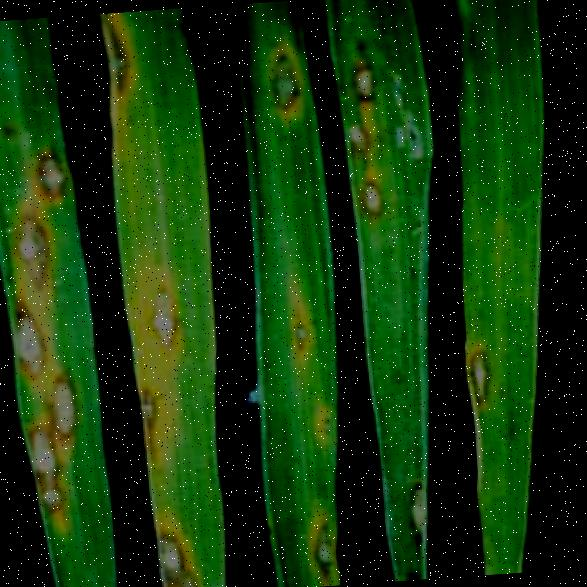Leaf_smut: (129, 258, 217, 360), (268, 493, 362, 585), (10, 411, 76, 522), (388, 431, 440, 565), (260, 266, 322, 378), (0, 201, 75, 292), (96, 18, 176, 98), (0, 292, 60, 378), (246, 38, 308, 120), (453, 330, 510, 415), (335, 40, 396, 113), (17, 134, 82, 200), (28, 369, 92, 435), (142, 520, 198, 587), (292, 394, 342, 456), (334, 105, 386, 159), (345, 159, 390, 217), (127, 384, 179, 432)
